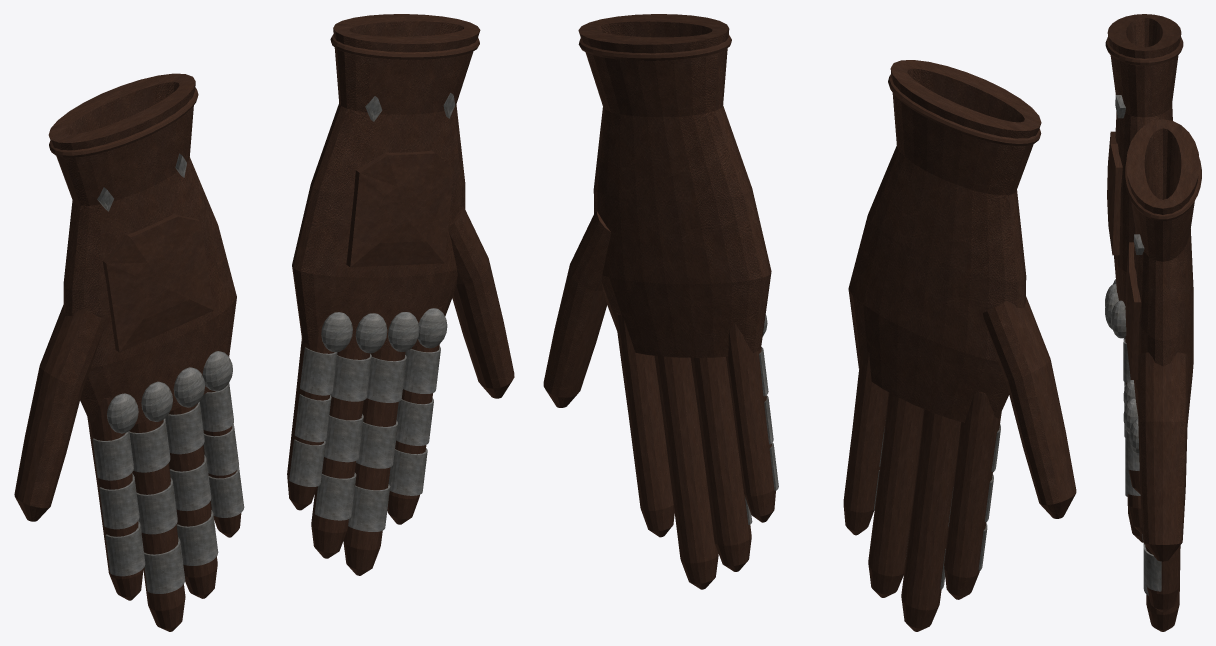
Rendered from medium.obj.
3 views of the same model, side by side, from view 1: azimuth 30°, elevation 25°; view 2: azimuth 150°, elevation 25°; view 3: azimuth 270°, elevation 25° (orthographic). The views are drawn at different scales.
Parts seen in each view (by area): view 1: right_palm_cuff, left_palm_cuff, left_back_plate, right_back_plate, left_thumb, right_thumb, right_finger_1, left_finger_1, right_finger_2, left_finger_0, left_finger_2, right_finger_3 (+36 smaller); view 2: right_palm_cuff, left_palm_cuff, left_thumb, right_finger_1, left_finger_1, right_finger_2, left_finger_2, right_thumb, left_finger_0, right_finger_0, right_finger_3, left_finger_3 (+2 smaller); view 3: right_palm_cuff, right_thumb, left_palm_cuff, right_back_plate, left_back_plate, right_finger_0, right_cuff_trim, right_finger_1, left_cuff_trim, right_finger_plate0_0, left_knuckle3, left_finger_2 (+10 smaller).
Boxes of the visible parts, x1=… form: right_palm_cuff: x1=292, y1=14, x2=480, y2=349; left_palm_cuff: x1=48, y1=73, x2=236, y2=424; left_back_plate: x1=102, y1=214, x2=213, y2=352; right_back_plate: x1=346, y1=150, x2=453, y2=267; left_thumb: x1=14, y1=305, x2=105, y2=521; right_thumb: x1=448, y1=206, x2=514, y2=398; right_finger_1: x1=343, y1=348, x2=405, y2=575; left_finger_1: x1=129, y1=420, x2=185, y2=631; right_finger_2: x1=311, y1=349, x2=370, y2=558; left_finger_0: x1=87, y1=397, x2=143, y2=600; left_finger_2: x1=168, y1=403, x2=217, y2=598; right_finger_3: x1=287, y1=315, x2=334, y2=510; right_palm_cuff: x1=578, y1=14, x2=771, y2=357; left_palm_cuff: x1=848, y1=60, x2=1041, y2=422; left_thumb: x1=982, y1=296, x2=1076, y2=518; right_finger_1: x1=654, y1=355, x2=718, y2=589; left_finger_1: x1=901, y1=409, x2=960, y2=631; right_finger_2: x1=691, y1=357, x2=751, y2=571; left_finger_2: x1=868, y1=392, x2=923, y2=597; right_thumb: x1=543, y1=211, x2=610, y2=407; left_finger_0: x1=944, y1=391, x2=1001, y2=599; right_finger_0: x1=615, y1=313, x2=674, y2=537; right_finger_3: x1=726, y1=322, x2=775, y2=522; left_finger_3: x1=843, y1=344, x2=888, y2=535; right_palm_cuff: x1=1126, y1=119, x2=1199, y2=422; right_thumb: x1=1138, y1=352, x2=1187, y2=561; left_palm_cuff: x1=1107, y1=14, x2=1181, y2=305; right_back_plate: x1=1125, y1=242, x2=1141, y2=379; left_back_plate: x1=1107, y1=131, x2=1122, y2=255; right_finger_0: x1=1145, y1=545, x2=1180, y2=612; right_cuff_trim: x1=1124, y1=158, x2=1201, y2=220; right_finger_1: x1=1146, y1=563, x2=1180, y2=631; left_cuff_trim: x1=1105, y1=37, x2=1183, y2=65; right_finger_plate0_0: x1=1143, y1=544, x2=1161, y2=591; left_knuckle3: x1=1111, y1=300, x2=1126, y2=338; left_finger_2: x1=1127, y1=494, x2=1142, y2=533.
Bounding box in the file's own units: 85.5 × 89 × 15.57.
2 materials, 2 textured.
